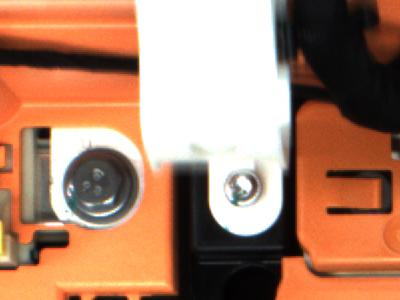nut_b: (60, 151, 140, 221)
screw_m: (220, 168, 269, 210)
